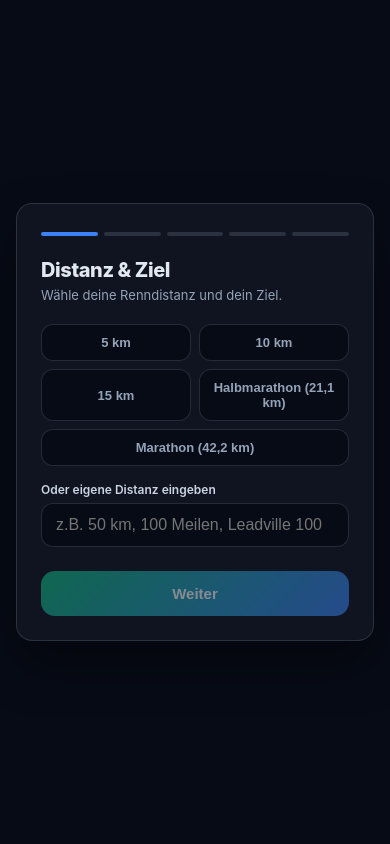
Test case: Onboarding — Schritt 4 (Kalender verbinden) › zeigt '✓ Kalender bereits verbunden'-Zustand bei gesetztem Connected-Marker (Re-Onboarding)
Click the button "10 km" at (274, 343), box [199, 324, 349, 361]
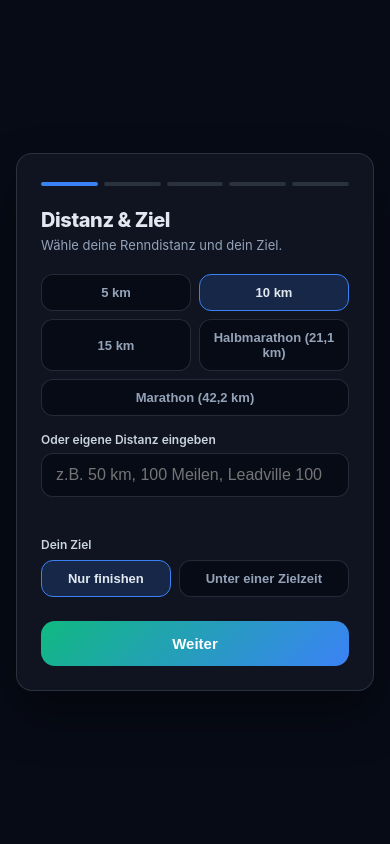
Click the button "Weiter" at (195, 644), box [41, 621, 349, 666]
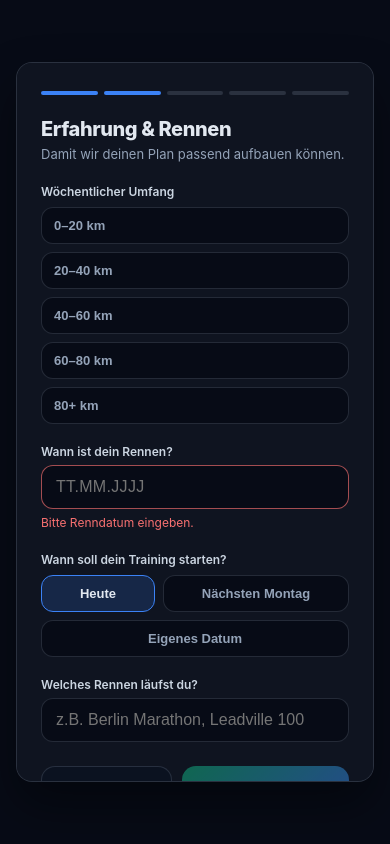
Click the button "0–20 km" at (80, 225), box [41, 207, 349, 244]
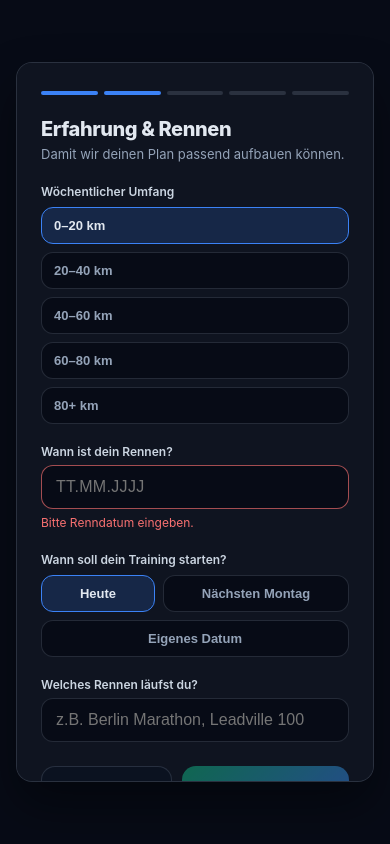
Type "01.01.2099" into the field labelled "Wann ist dein Rennen?" at (195, 487), box [41, 465, 349, 509]
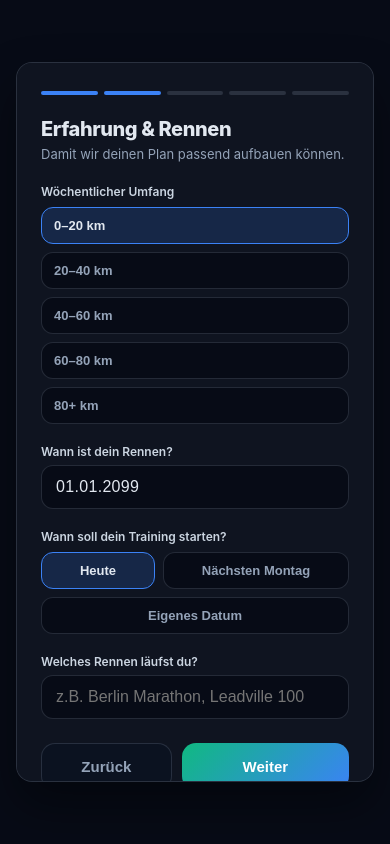
Click the button "Weiter" at (265, 766), box [182, 743, 349, 790]
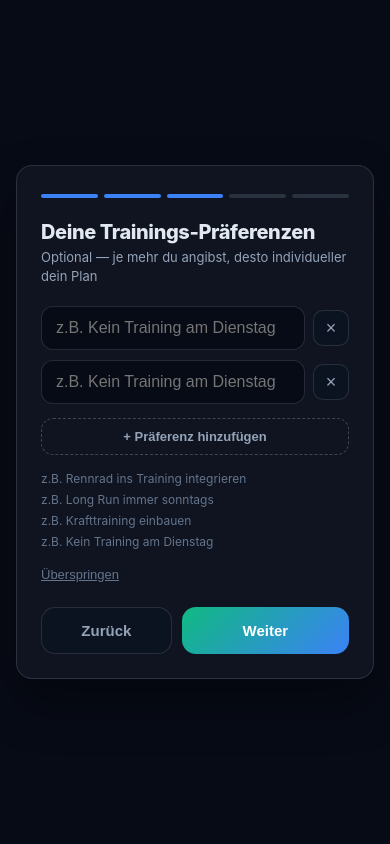
Click the button "Weiter" at (265, 630), box [182, 607, 349, 654]
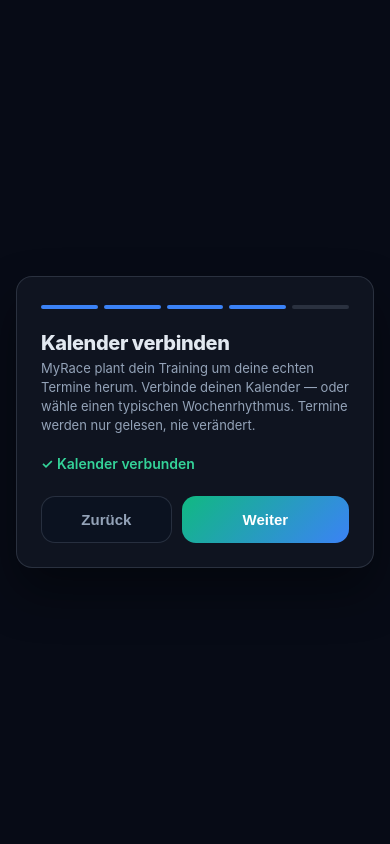
Expected: the text "✓ Kalender verbunden" is shown, [41, 455, 195, 472]
